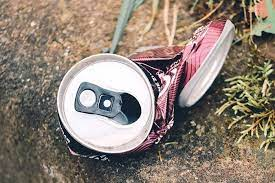metal: (57, 18, 237, 163)
